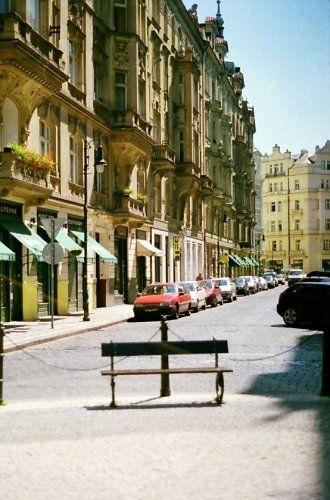car: (276, 282, 328, 326), (133, 282, 193, 320), (177, 282, 206, 312), (199, 279, 224, 307), (212, 277, 237, 303), (239, 275, 262, 296), (288, 268, 308, 287), (232, 277, 250, 297), (256, 276, 268, 290), (262, 275, 275, 287), (273, 274, 285, 286)
